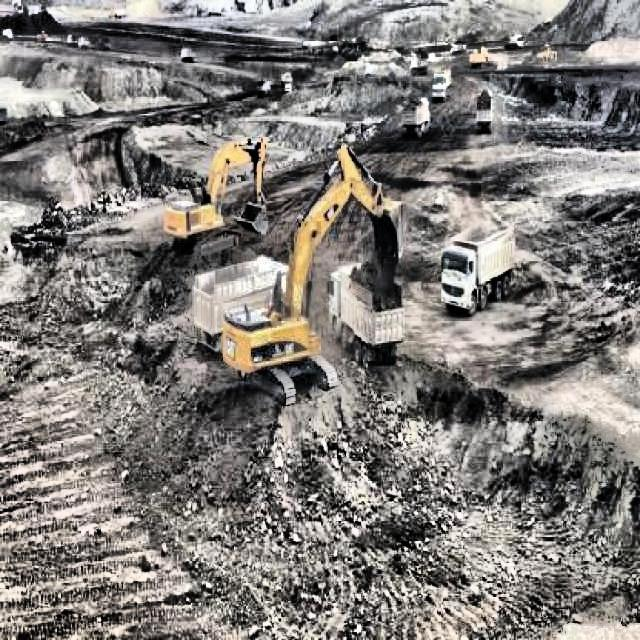dump_truck: (328, 260, 404, 366), (440, 221, 516, 317), (192, 256, 290, 330), (400, 96, 431, 138), (432, 66, 452, 102), (476, 90, 492, 132), (410, 54, 428, 76)
excavator: (220, 143, 409, 408), (163, 137, 269, 257)
